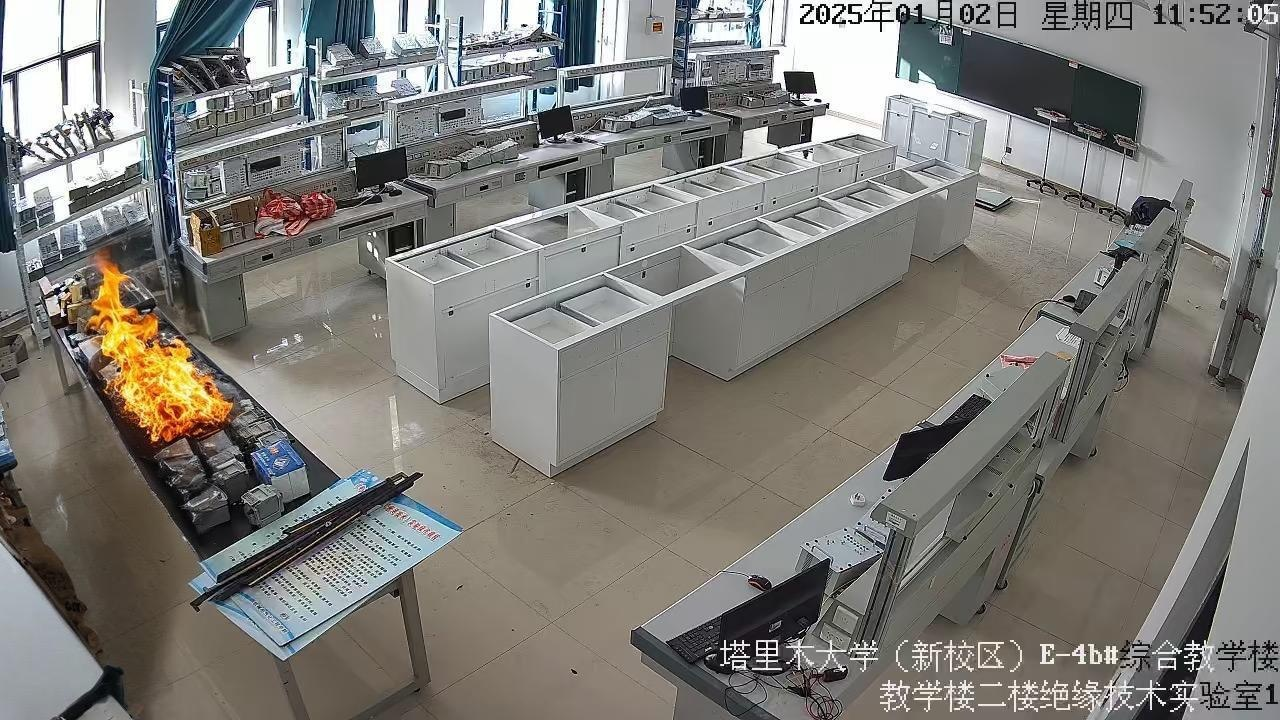fire: (62, 273, 245, 449)
